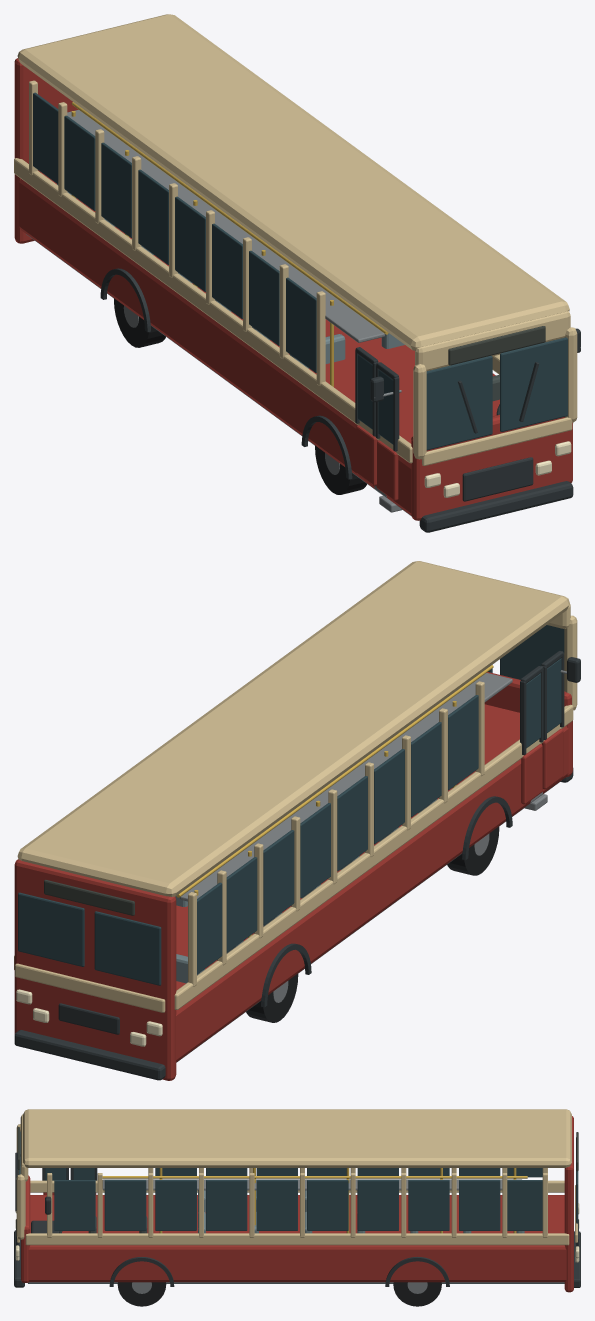
File: bus_v2_blockout.glb
3 renders of one model, top to bottom at view 1: azimuth 30°, elevation 25°; view 2: azimuth 150°, elevation 25°; view 3: azimuth 270°, elevation 25°, orthographic. The views are drawn at different scales.
Parts seen in each view (by area): view 1: BODY_ROOF, BODY_LOWER, BELT_L, FRONT_LOWER, WINDSHIELD_R, WINDSHIELD_L, LUGGAGE_RACK_L, FRONT_BUMPER, REAR_PANEL, SIDE_WINDOW_L_09, SIDE_WINDOW_L_03, SIDE_WINDOW_L_04 (+25 smaller); view 2: BODY_ROOF, BODY_LOWER, REAR_PANEL, BELT_L, LUGGAGE_RACK_L, REAR_WINDOW_L, REAR_WINDOW_R, REAR_BUMPER, SIDE_WINDOW_L_08, SIDE_WINDOW_L_09, SIDE_WINDOW_L_05, SIDE_WINDOW_L_07 (+25 smaller); view 3: BODY_ROOF, BODY_LOWER, BELT_R, SIDE_WINDOW_R_02, SIDE_WINDOW_R_01, SIDE_WINDOW_R_03, SIDE_WINDOW_R_04, SIDE_WINDOW_R_05, SIDE_WINDOW_R_06, SIDE_WINDOW_R_07, SIDE_WINDOW_R_08, SIDE_WINDOW_R_09 (+34 smaller).
Boxes of the visible parts, left/top/right/bottom form: BODY_ROOF: left=17, top=14, right=569, bottom=350; BODY_LOWER: left=18, top=172, right=499, bottom=515; BELT_L: left=14, top=158, right=412, bottom=463; FRONT_LOWER: left=411, top=414, right=572, bottom=520; WINDSHIELD_R: left=500, top=337, right=567, bottom=431; WINDSHIELD_L: left=426, top=355, right=492, bottom=450; LUGGAGE_RACK_L: left=67, top=110, right=384, bottom=342; FRONT_BUMPER: left=419, top=481, right=573, bottom=532; REAR_PANEL: left=14, top=58, right=78, bottom=243; SIDE_WINDOW_L_09: left=64, top=115, right=95, bottom=210; SIDE_WINDOW_L_03: left=286, top=277, right=316, bottom=372; SIDE_WINDOW_L_04: left=249, top=250, right=279, bottom=345; BODY_ROOF: left=17, top=561, right=569, bottom=896; BODY_LOWER: left=176, top=704, right=568, bottom=1061; REAR_PANEL: left=14, top=859, right=176, bottom=1080; BELT_L: left=174, top=704, right=573, bottom=1009; LUGGAGE_RACK_L: left=180, top=673, right=512, bottom=901; REAR_WINDOW_L: left=94, top=911, right=161, bottom=985; REAR_WINDOW_R: left=18, top=892, right=84, bottom=966; REAR_BUMPER: left=14, top=1030, right=165, bottom=1080; SIDE_WINDOW_L_08: left=263, top=830, right=294, bottom=925; SIDE_WINDOW_L_09: left=226, top=857, right=257, bottom=952; SIDE_WINDOW_L_05: left=374, top=749, right=404, bottom=844; SIDE_WINDOW_L_07: left=300, top=803, right=330, bottom=898; BODY_ROOF: left=23, top=1109, right=571, bottom=1167; BODY_LOWER: left=28, top=1195, right=566, bottom=1282; BELT_R: left=25, top=1233, right=569, bottom=1245; SIDE_WINDOW_R_02: left=104, top=1180, right=146, bottom=1230; SIDE_WINDOW_R_01: left=54, top=1180, right=95, bottom=1230; SIDE_WINDOW_R_03: left=155, top=1180, right=196, bottom=1230; SIDE_WINDOW_R_04: left=206, top=1180, right=247, bottom=1230; SIDE_WINDOW_R_05: left=256, top=1180, right=297, bottom=1230; SIDE_WINDOW_R_06: left=307, top=1180, right=348, bottom=1230; SIDE_WINDOW_R_07: left=357, top=1180, right=398, bottom=1230; SIDE_WINDOW_R_08: left=408, top=1180, right=449, bottom=1230; SIDE_WINDOW_R_09: left=459, top=1180, right=500, bottom=1230.
Bounding box in the file's own units: 3.26 × 3.23 × 11.21.
